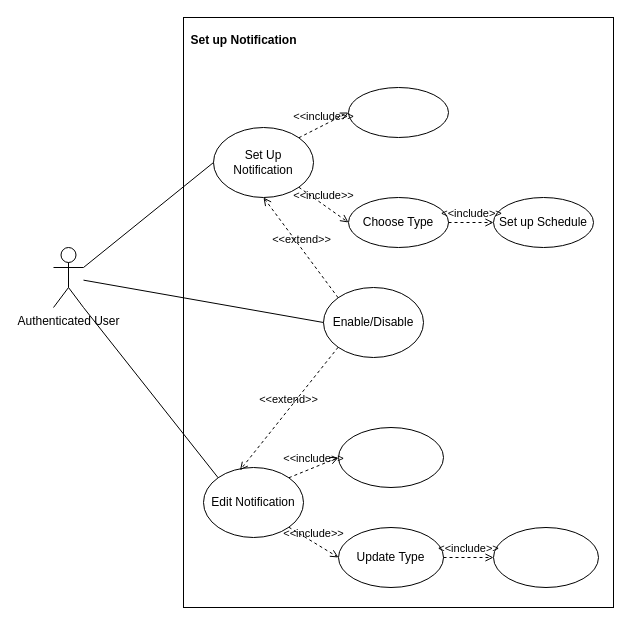
Some shapes in this 631 by 625 pixel diagram are drawn without their labels. The box of each missing label's shape, as (x1, y1, x2, y2) in pixels:
Choose Method: (348, 86, 448, 138)
Update Method: (338, 426, 444, 488)
Update Schedule: (492, 526, 598, 588)
